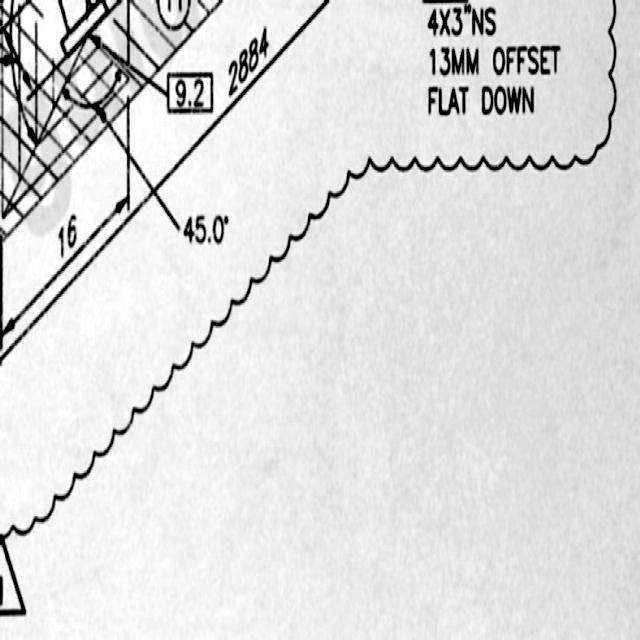Item number: (165, 67, 215, 118)
Measrement: (4, 2, 337, 369)
Symbol: (52, 1, 107, 85)
Weld number: (154, 0, 192, 33)
other: (423, 0, 562, 125)
